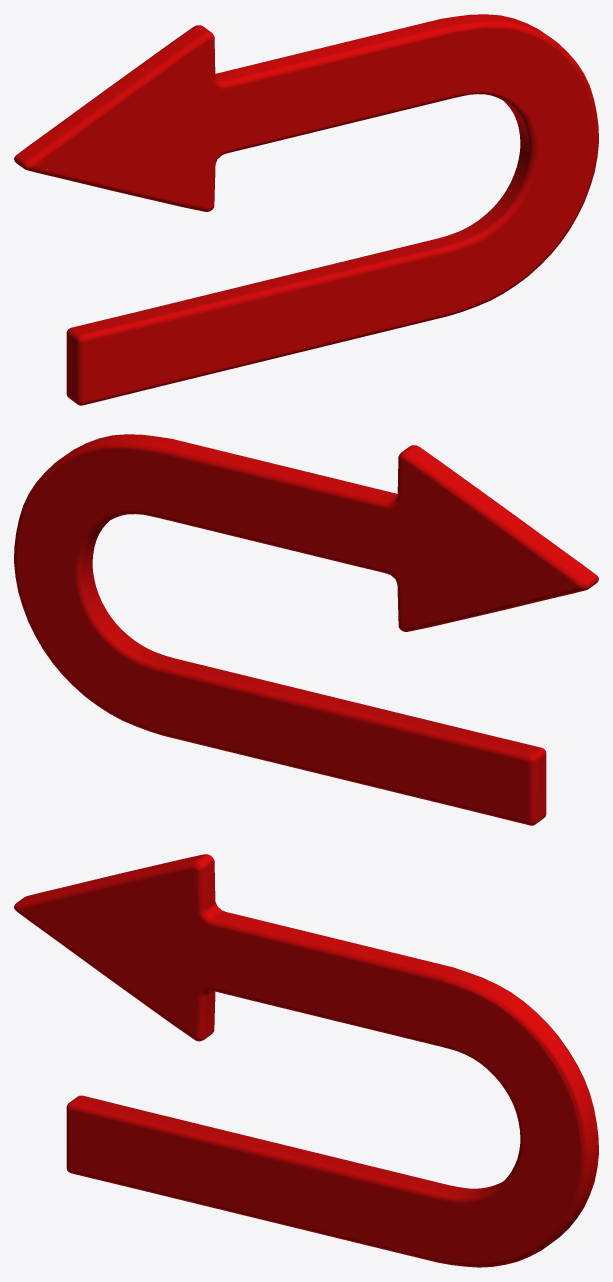
Rendered from backward.glb.
3 views of the same model, one above another, from view 1: azimuth 30°, elevation 25°; view 2: azimuth 150°, elevation 25°; view 3: azimuth 330°, elevation 25° (orthographic).
Parts seen in each view (by area): view 1: node_id30; view 2: node_id30; view 3: node_id30.
Part boxes in pixels (x1,y1,x2,y2): node_id30: (14,14,598,405); node_id30: (14,434,598,825); node_id30: (14,854,598,1267).
Bounding box in the file's own units: 0.512 × 0.2917 × 0.0239.
Materials: 1 (1 with a texture image).
